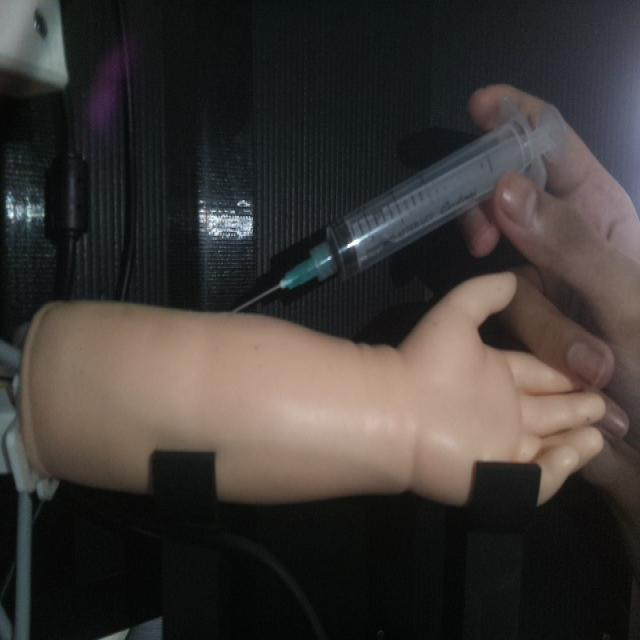Outside: (223, 81, 569, 319)
